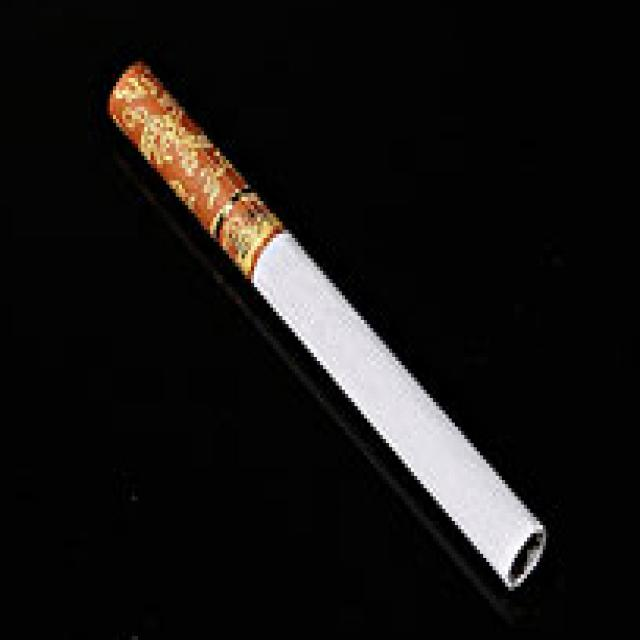smoking: (104, 56, 546, 591)
